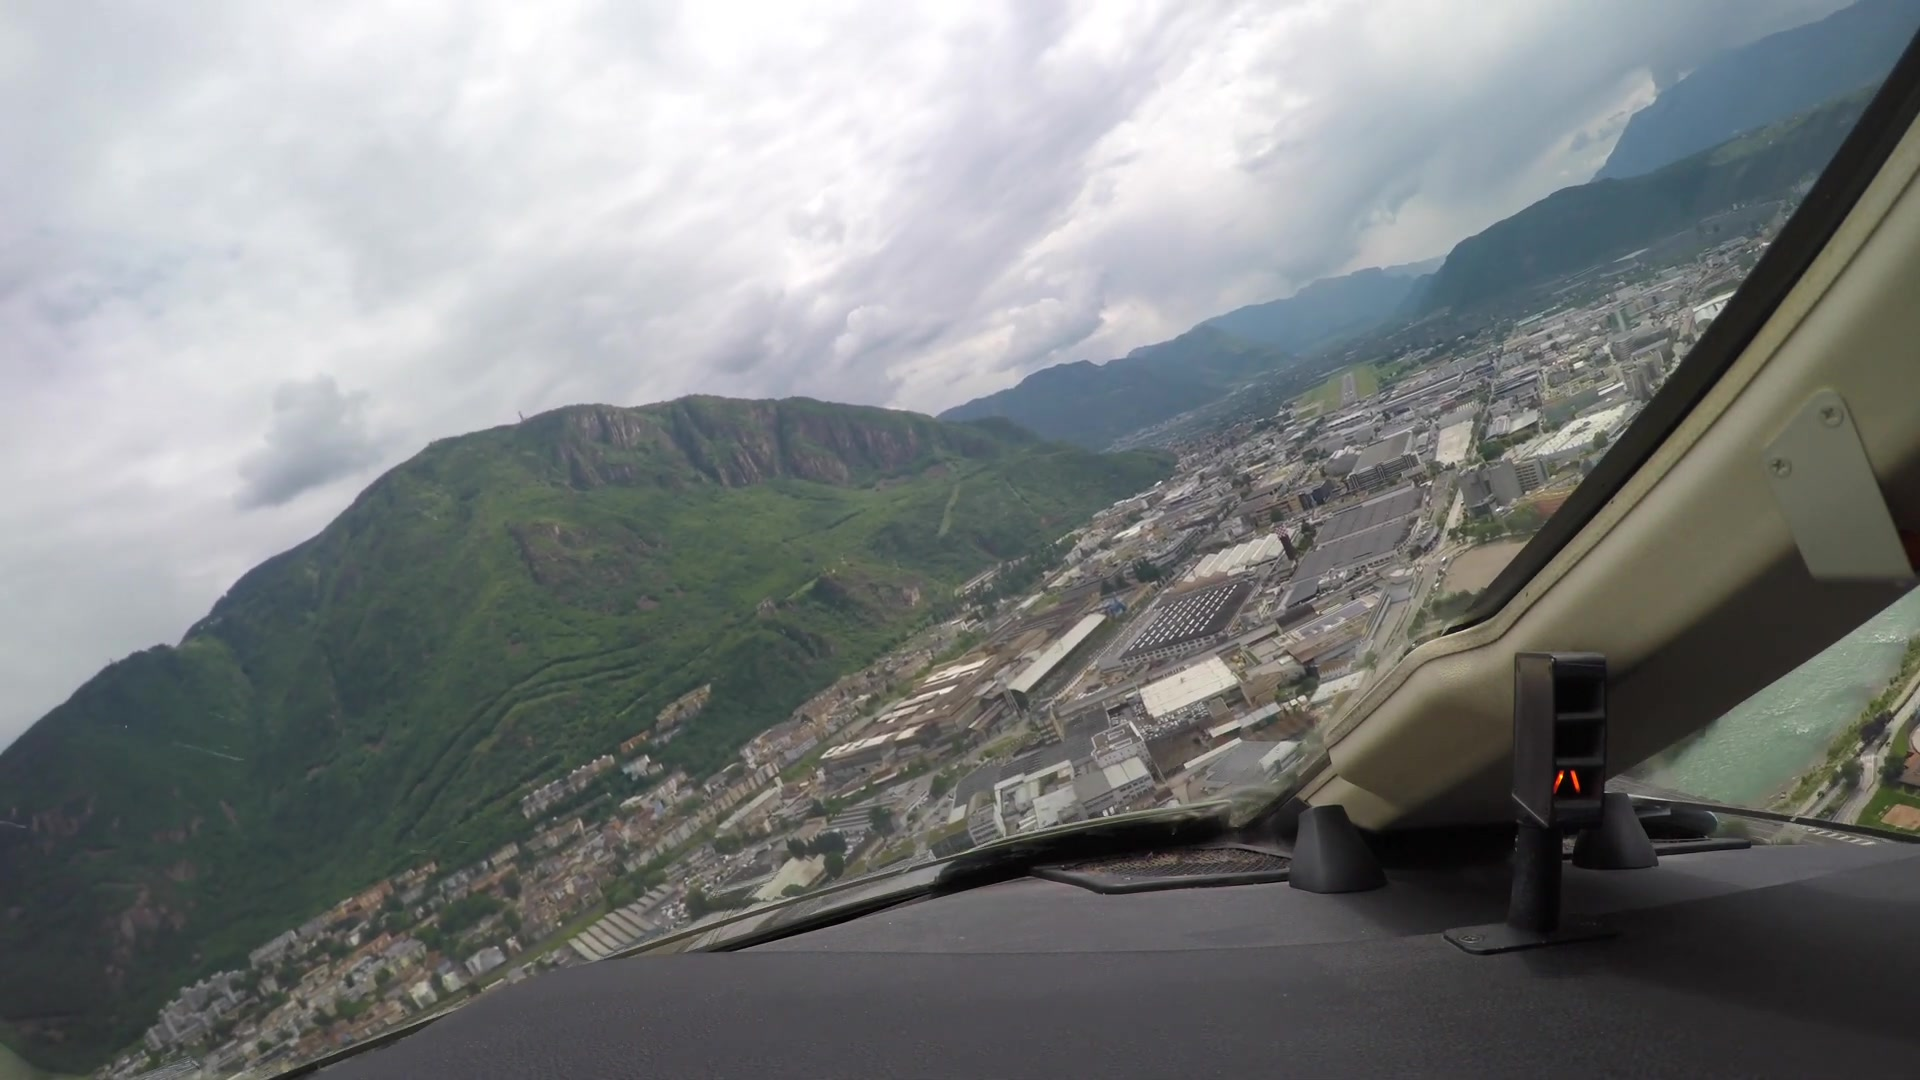runway: (1341, 371, 1356, 404)
